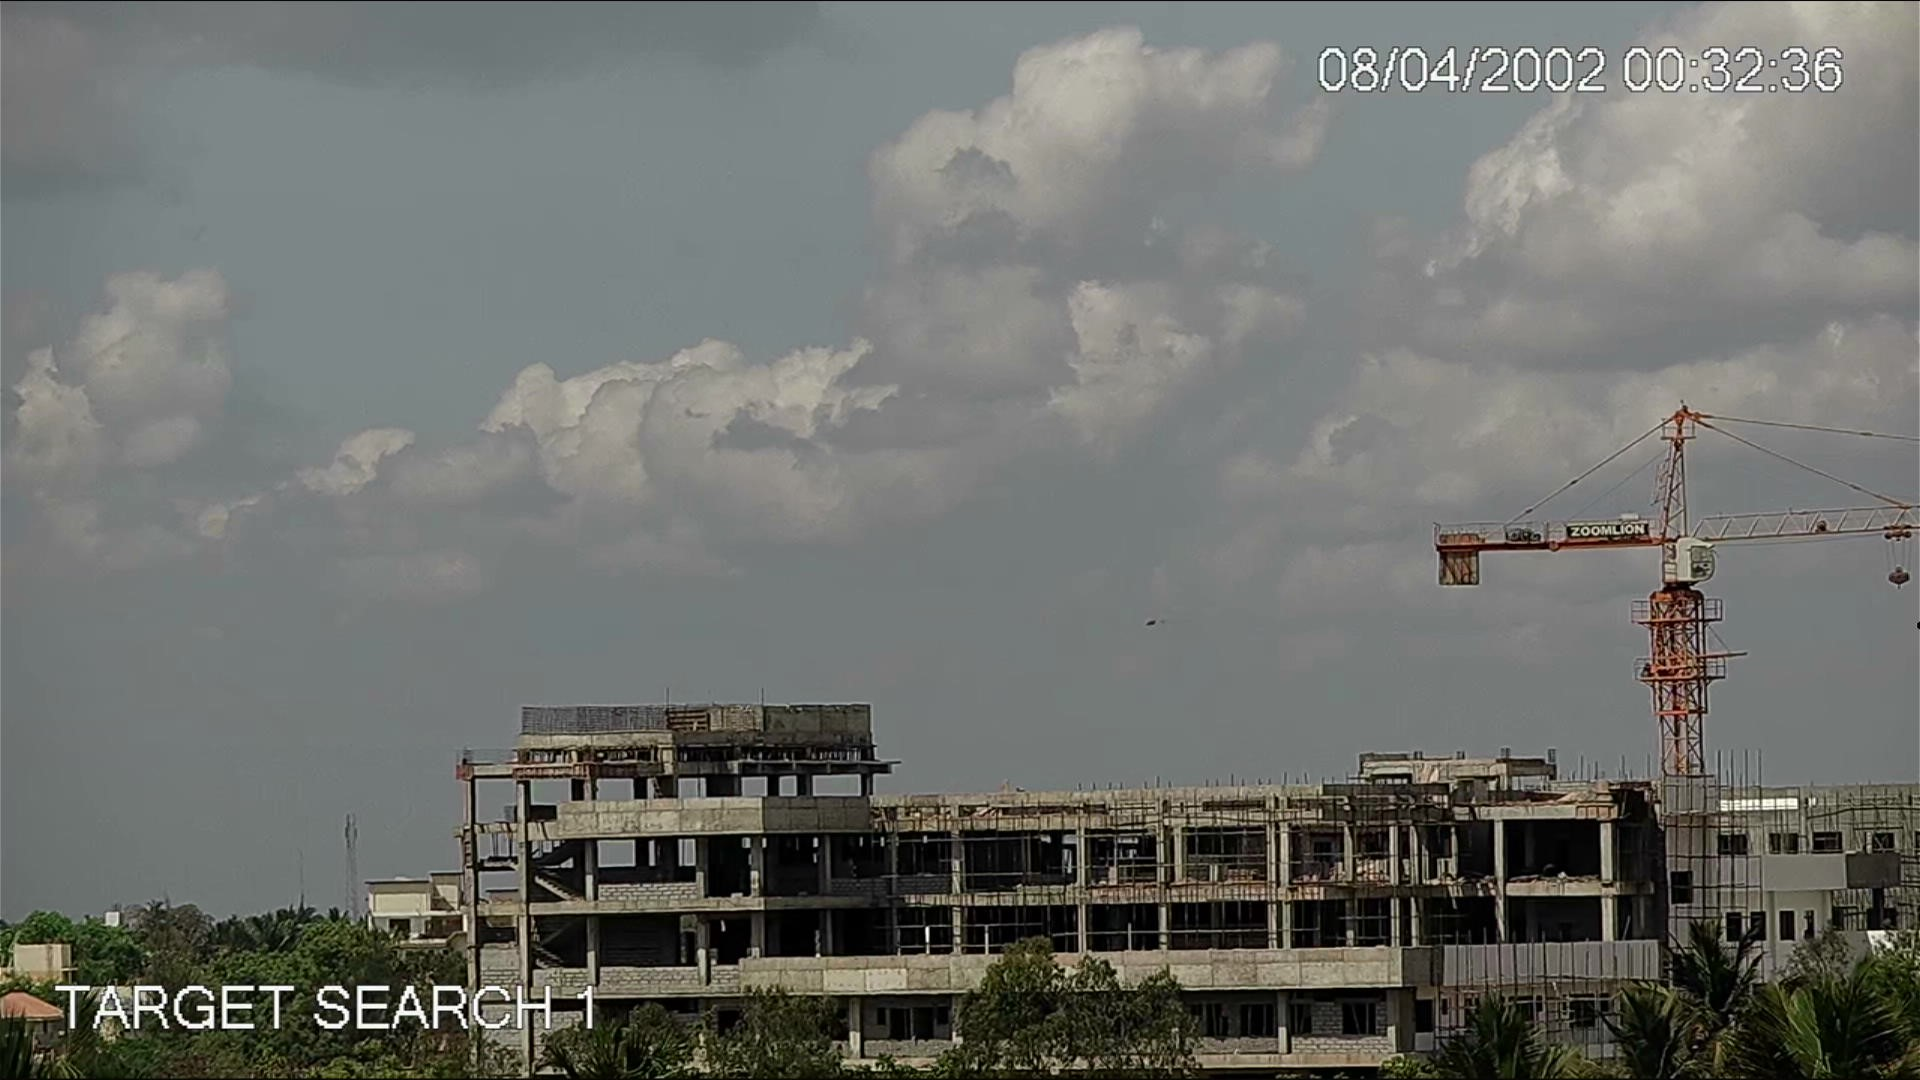SU_30: (1143, 615, 1164, 630)
